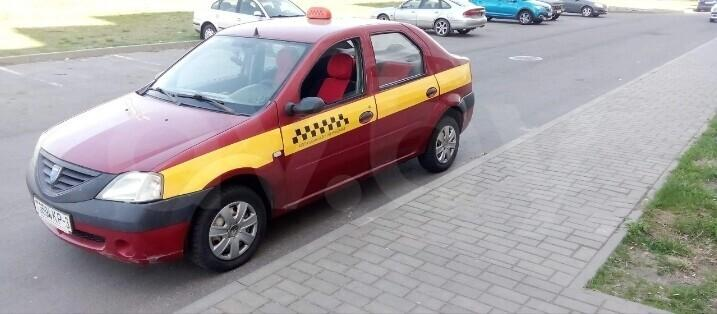Logan_2004-2009: (26, 14, 476, 272)
